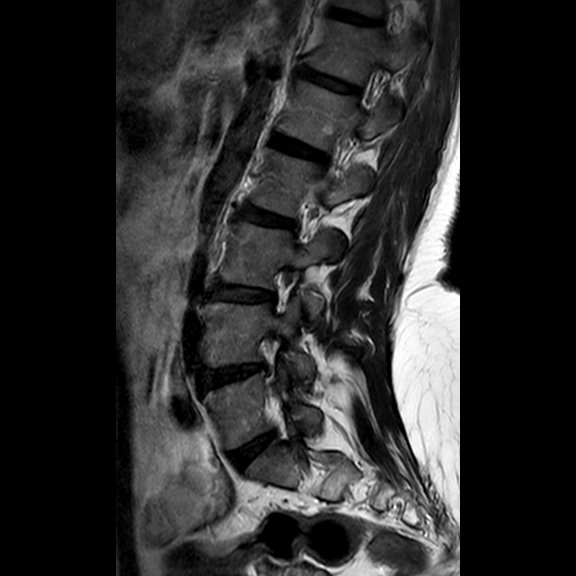LFS0: (257, 259, 304, 322)
